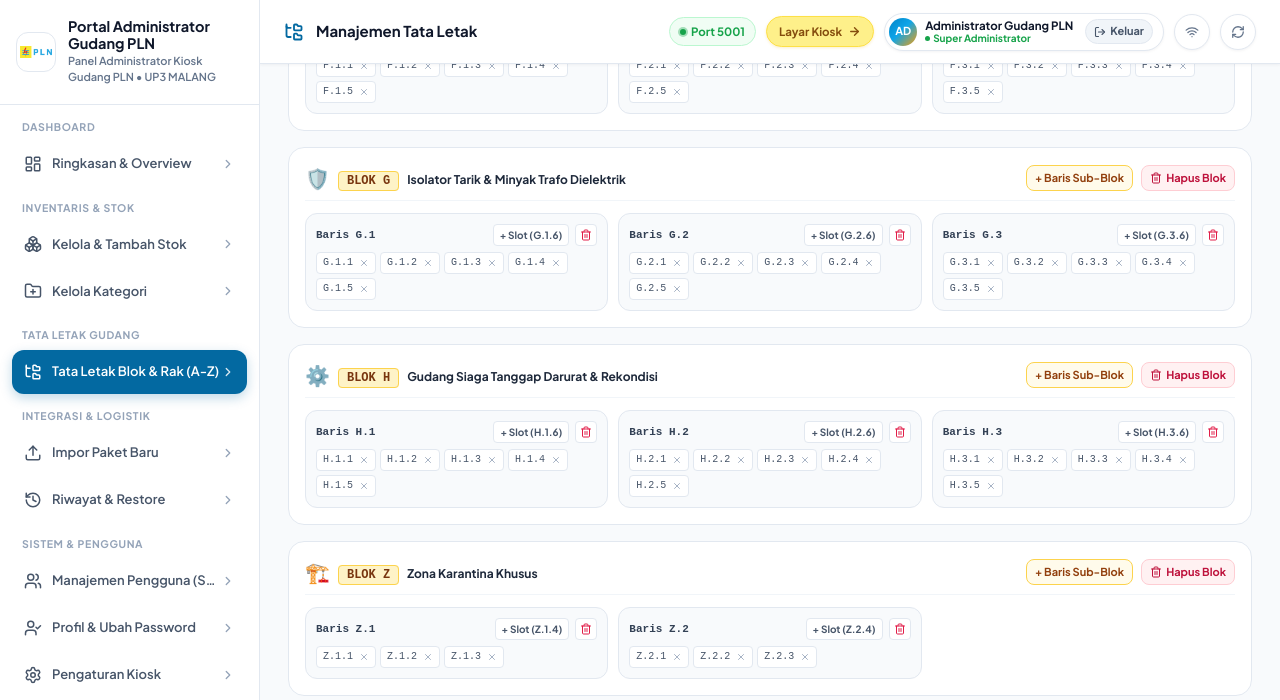
Test: Warehouse Hierarchy Deletion Tests (Blok, Sub-Blok, Slot) › allows deleting a custom block with confirmation modal in Admin Locations tab
(page scrolled)
Expected: the text "Zona Karantina Khusus" is shown, [407,566,538,581]
Note: Find delete button specifically with title "Hapus Blok BLOK Z"
Step 1. Click the button titled "Hapus Blok BLOK Z" in the row of "Zona Karantina Khusus" → (1188, 572), box [1141,559,1235,585]
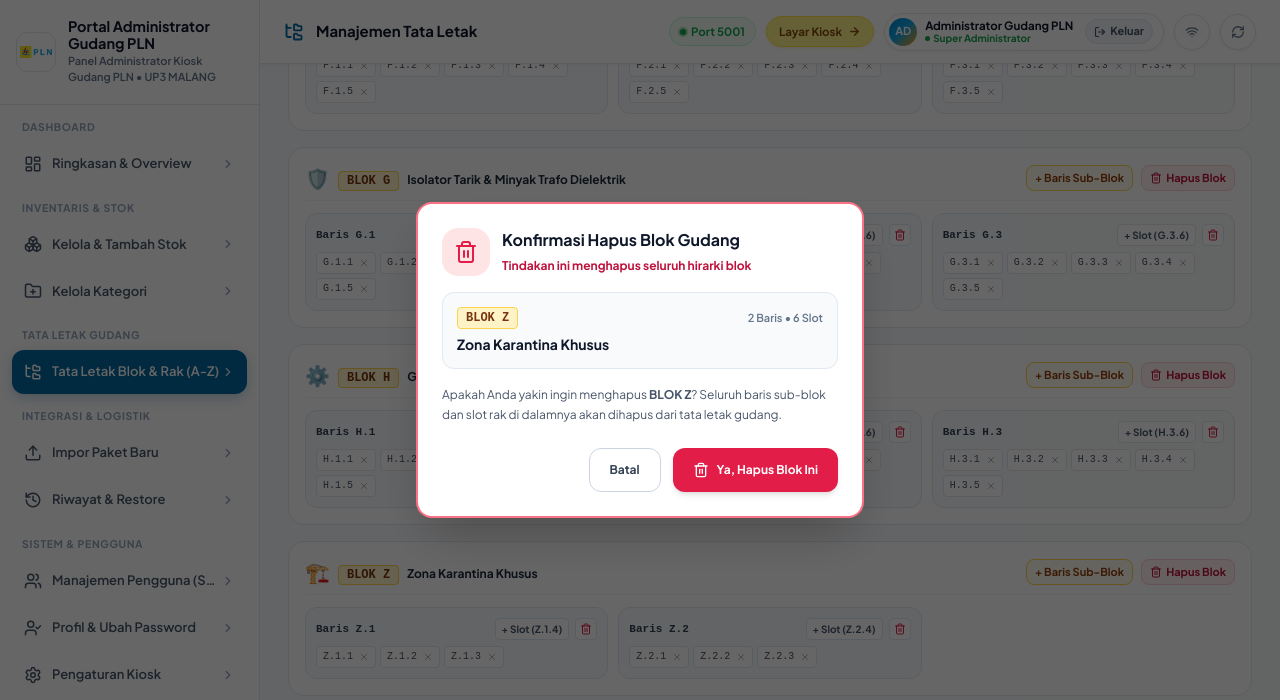
Expected: the heading "Konfirmasi Hapus Blok Gudang" is shown, [502,228,752,252]
Expected: the text "Tindakan ini menghapus seluruh hirarki blok" is shown, [502,258,752,273]
Note: Click confirm button: "Ya, Hapus Blok Ini"
Step 2. Click the button "Ya, Hapus Blok Ini" → (755, 470), box [673,448,838,492]
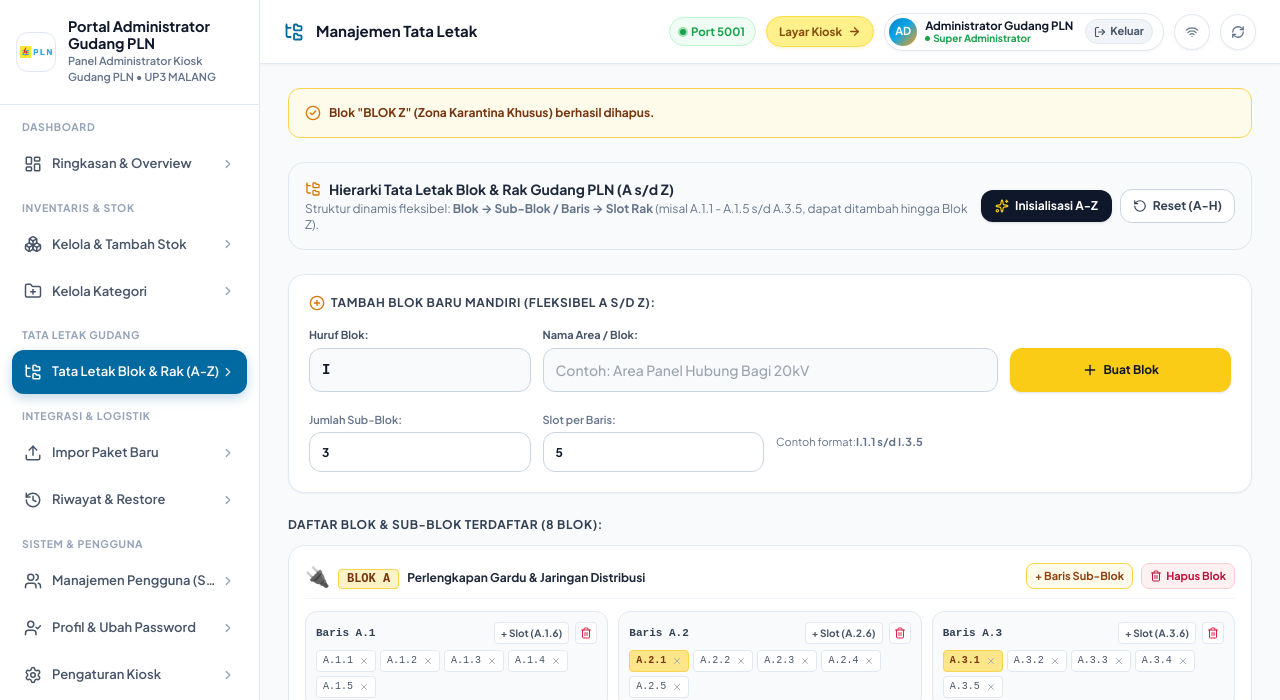
Expected: the heading "Konfirmasi Hapus Blok Gudang" is gone
Expected: the text "Blok \"BLOK Z\" (Zona Karantina Khusus) berhasil dihapus." is shown, [329,105,655,121]
